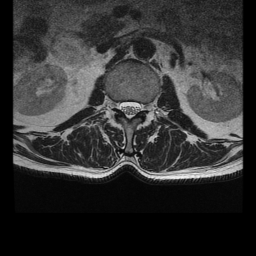CCS_normal: (126, 93, 133, 125)
LFS_normal: (141, 94, 149, 117)
LLS_normal: (133, 93, 141, 120)
RFS_normal: (111, 91, 119, 114)
RLS_normal: (118, 93, 126, 117)
